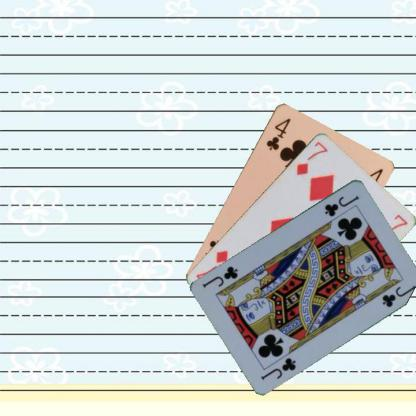4c: (263, 115, 292, 151)
7d: (294, 138, 329, 176)
Jc: (258, 354, 298, 382), (322, 192, 360, 218)
